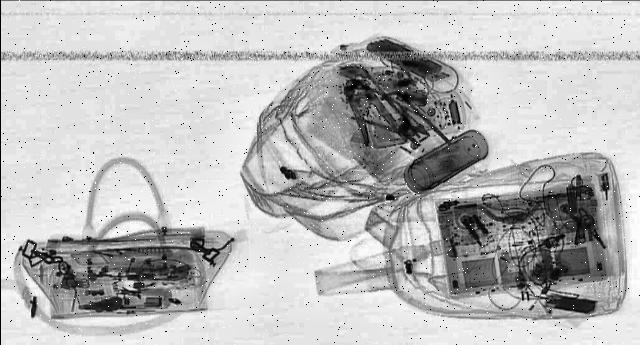Pliers: (322, 74, 410, 145)
